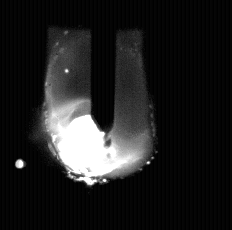arame: (92, 0, 116, 148)
poca: (46, 0, 152, 230)
